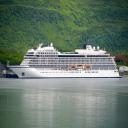cruises: (7, 38, 124, 81)
